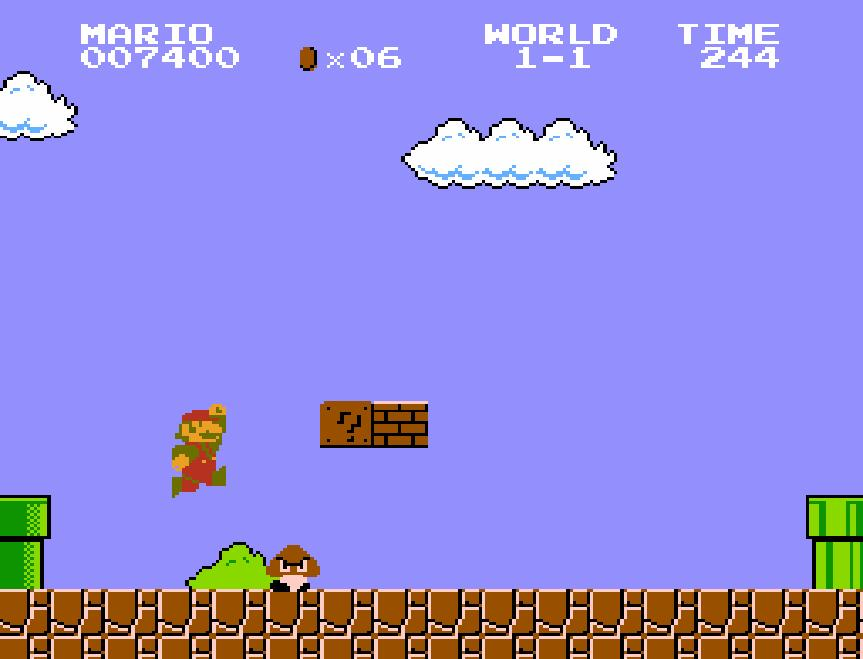big_mario: (169, 402, 227, 500)
